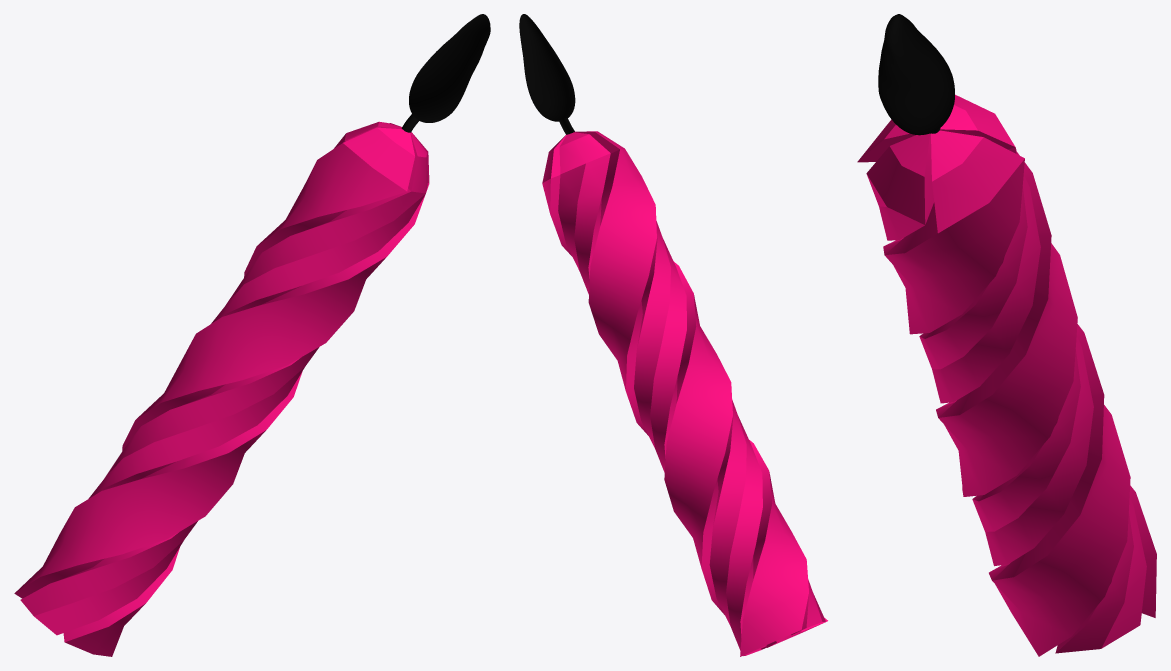
Rendered from candle.obj.
The picture shows the model from 3 angles, left to right: view 1: azimuth 30°, elevation 25°; view 2: azimuth 150°, elevation 25°; view 3: azimuth 270°, elevation 25°; orthographic projection. The views are drawn at different scales.
Visible parts, largest first — view 1: dynamic; view 2: dynamic; view 3: dynamic.
Part boxes in pixels (x1=…): dynamic: x1=14, y1=14, x2=490, y2=656; dynamic: x1=519, y1=14, x2=827, y2=656; dynamic: x1=857, y1=14, x2=1156, y2=656.
Size of the model in its own units: 1.05 by 1.51 by 0.4706.
